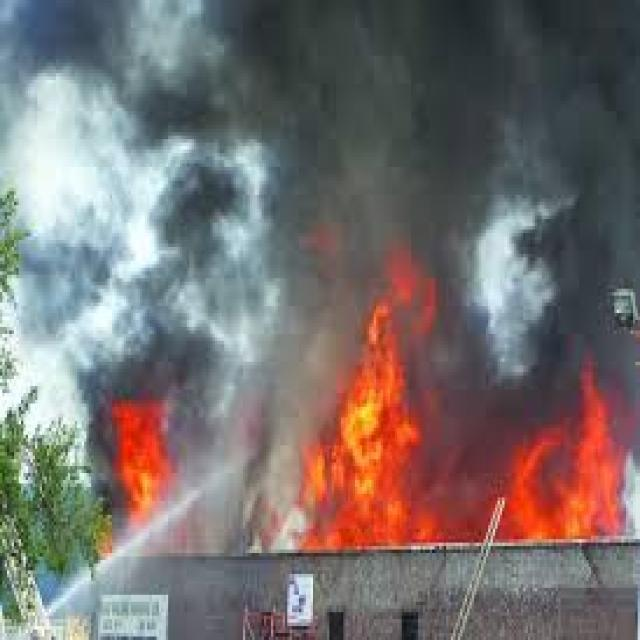Fire: (324, 288, 434, 546), (503, 397, 627, 542), (118, 400, 170, 503)
Smoke: (217, 0, 633, 285)
